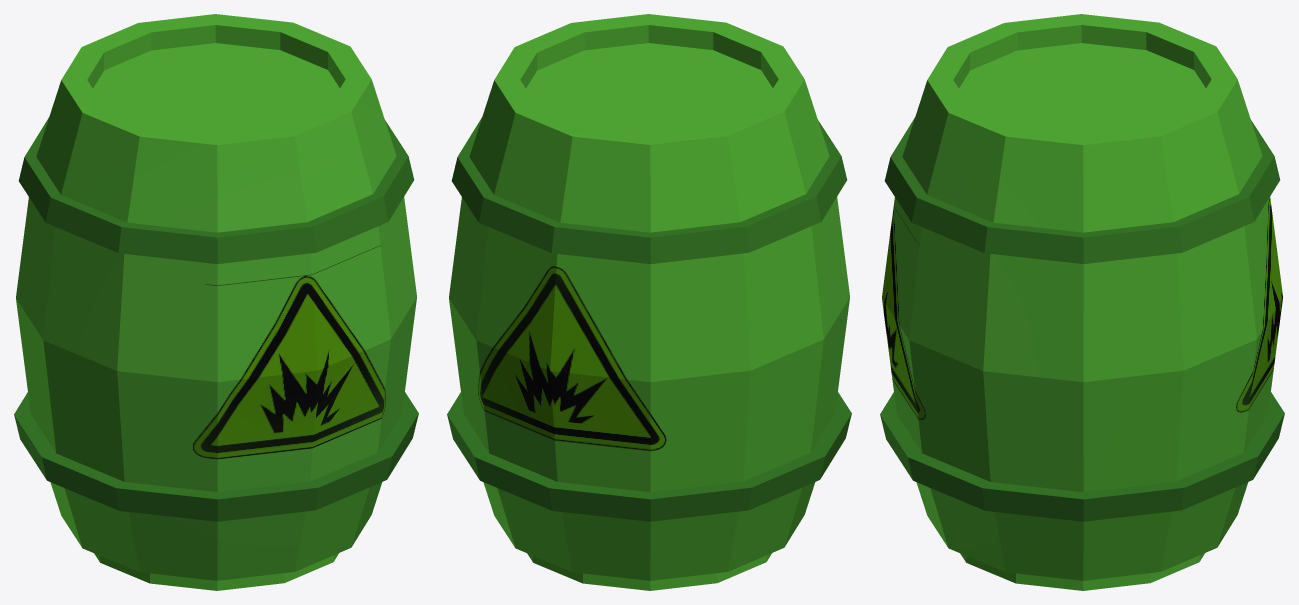
File: explosion barrel.fbx
3 renders of one model, left to right at view 1: azimuth 30°, elevation 25°; view 2: azimuth 150°, elevation 25°; view 3: azimuth 270°, elevation 25°, orthographic.
Parts seen in each view (by area): view 1: Cylinder; view 2: Cylinder; view 3: Cylinder.
Part boxes in pixels (bbox=[...]): Cylinder: bbox=[14, 14, 418, 590]; Cylinder: bbox=[447, 14, 851, 590]; Cylinder: bbox=[880, 14, 1284, 590].
Bounding box in the file's own units: 168 × 209 × 168.
Materials: 2 (1 with a texture image).
